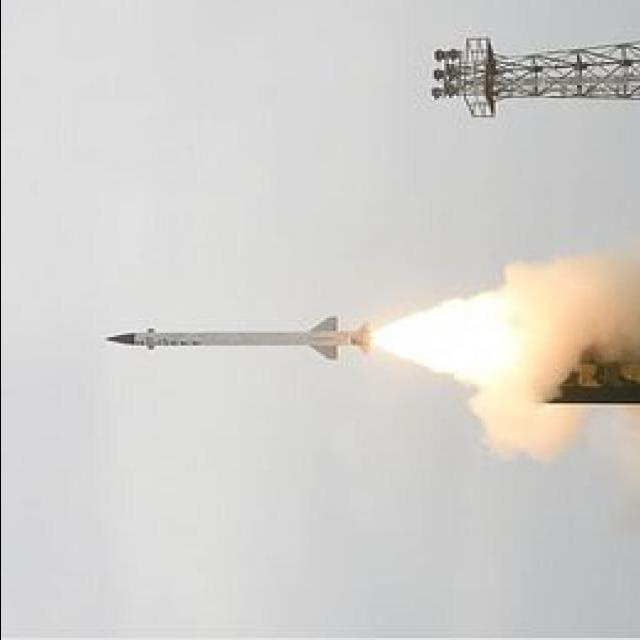missile: (102, 315, 368, 365)
